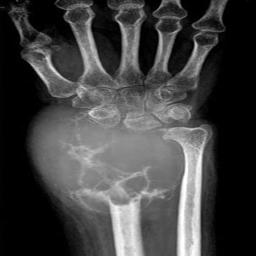cancer: (68, 117, 172, 210)
